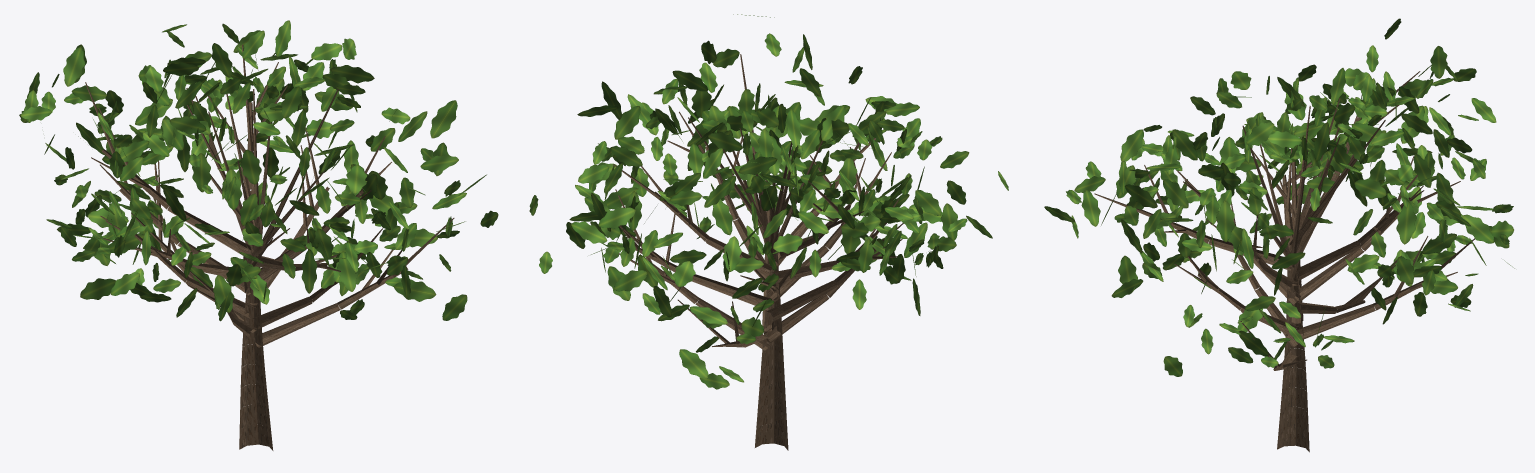
File: maple-distance.glb
3 views of the same model, side by side, from view 1: azimuth 30°, elevation 25°; view 2: azimuth 150°, elevation 25°; view 3: azimuth 270°, elevation 25° (orthographic). The views are drawn at different scales.
Parts seen in each view (by area): view 1: foliage, bark; view 2: foliage, bark; view 3: foliage, bark.
Part boxes in pixels (left/top/right/bottom): foliage: left=19, top=20, right=498, bottom=321; bark: left=85, top=44, right=454, bottom=450; foliage: left=529, top=14, right=1008, bottom=389; bark: left=613, top=54, right=903, bottom=450; foliage: left=1044, top=18, right=1514, bottom=376; bark: left=1094, top=71, right=1474, bottom=452.
Bounding box in the file's own units: 9.69 × 9.64 × 10.54.
2 materials, 2 textured.
